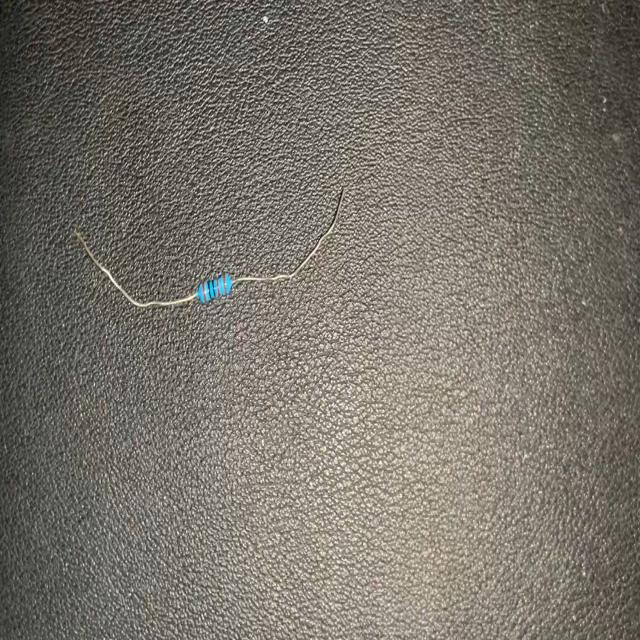resistor: (72, 184, 349, 315)
